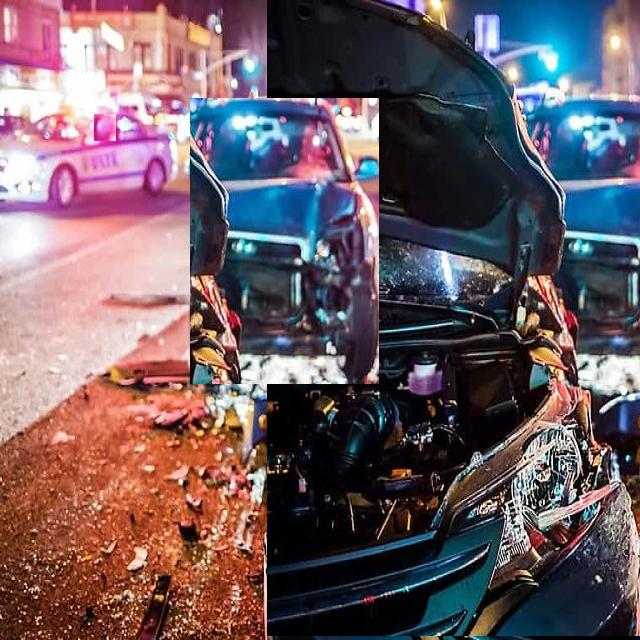accident: (267, 0, 640, 636), (190, 98, 379, 384)
car: (94, 114, 116, 141)
